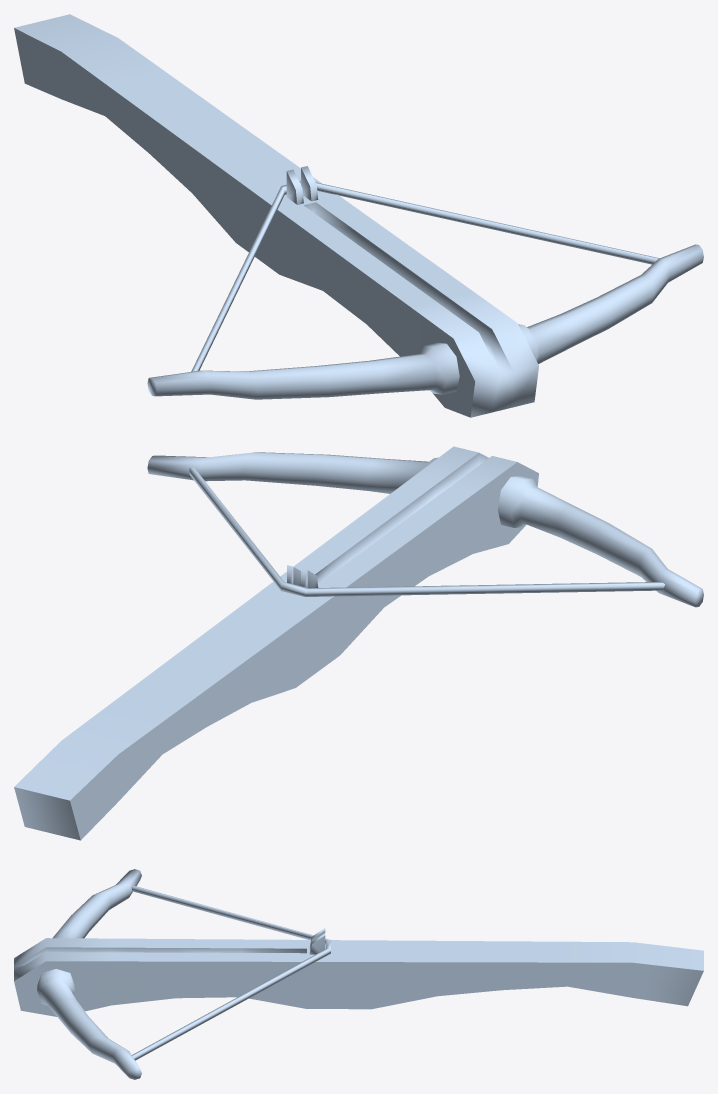
File: kusza.obj
3 renders of one model, top to bottom at view 1: azimuth 30°, elevation 25°; view 2: azimuth 150°, elevation 25°; view 3: azimuth 270°, elevation 25°, orthographic. The views are drawn at different scales.
Parts seen in each view (by area): view 1: cube2, cube6, cube7; view 2: cube2, cube6, cube7; view 3: cube2, cube6, cube7.
Part boxes in pixels (x1,y1,x2,y2): cube2: (14, 14, 538, 417); cube6: (147, 244, 703, 399); cube7: (191, 181, 659, 371); cube2: (14, 446, 538, 840); cube6: (147, 452, 703, 607); cube7: (189, 468, 664, 596); cube2: (14, 928, 703, 1016); cube6: (37, 869, 141, 1079); cube7: (131, 885, 330, 1060).
Bounding box in the file's own units: 2.49 × 0.436 × 3.67.
